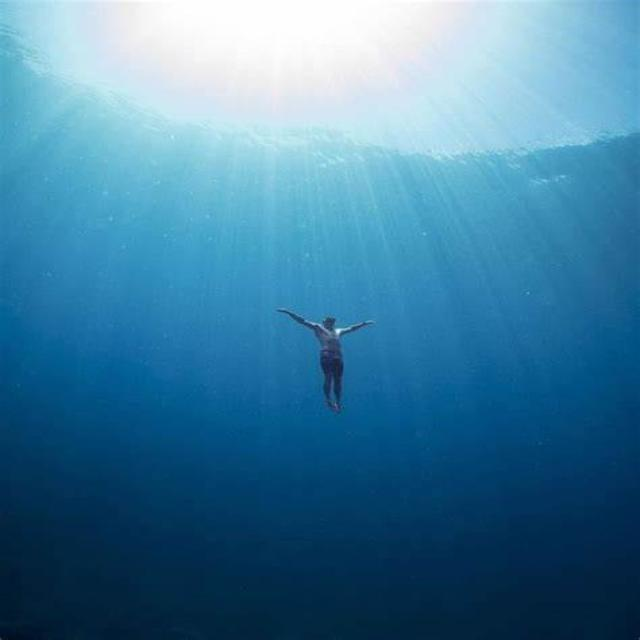drowning: (270, 302, 381, 422)
